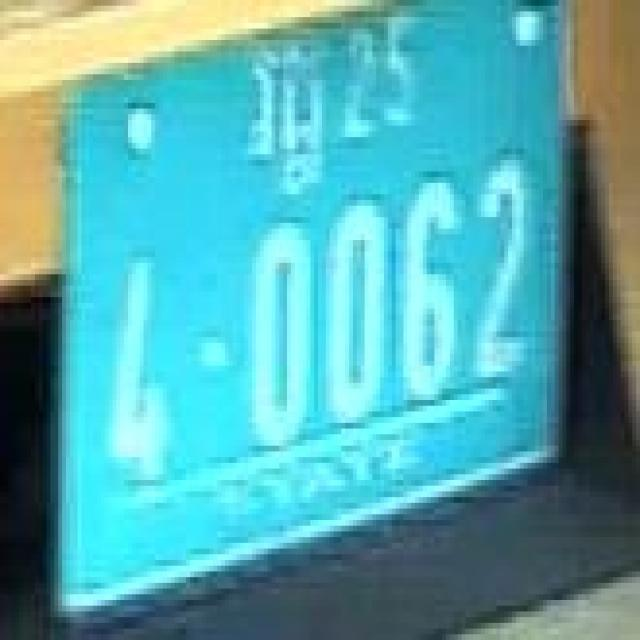State: (248, 40, 328, 196)
